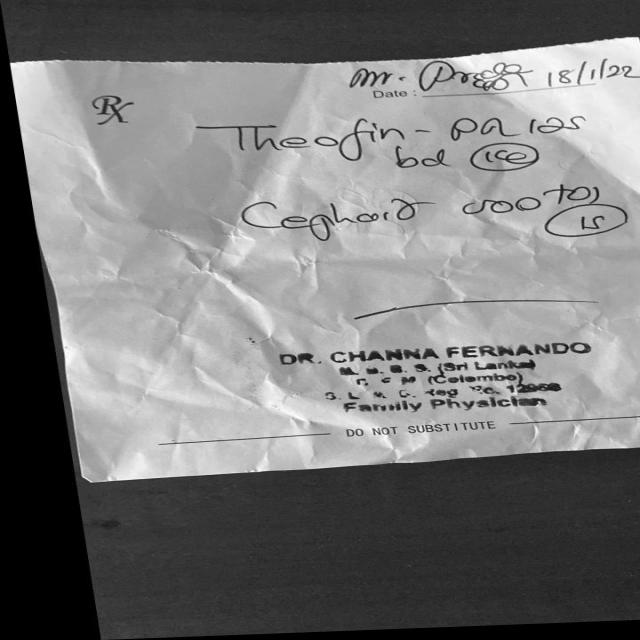Prescription: (187, 111, 589, 178), (225, 186, 624, 250)
